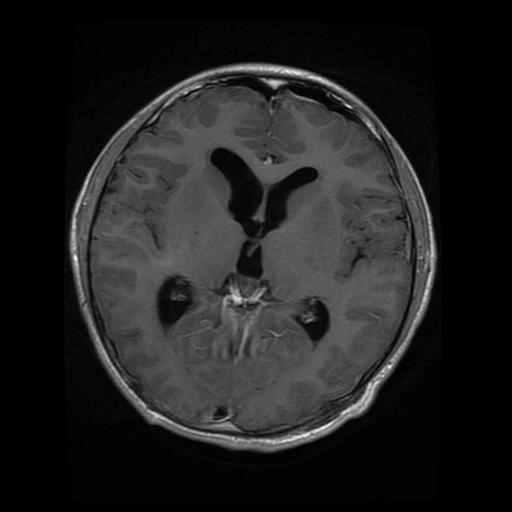Tumour-Glioma: (215, 295, 268, 362)
